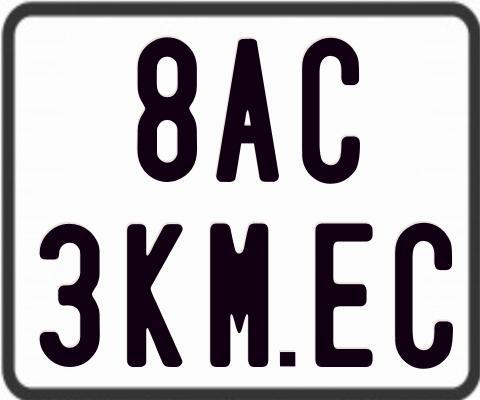3: (39, 223, 104, 370)
8: (137, 35, 198, 181)
A: (213, 36, 282, 181)
C: (395, 223, 455, 371), (300, 36, 358, 187)
E: (313, 220, 376, 366)
K: (127, 221, 185, 369)
M: (208, 220, 266, 366)
